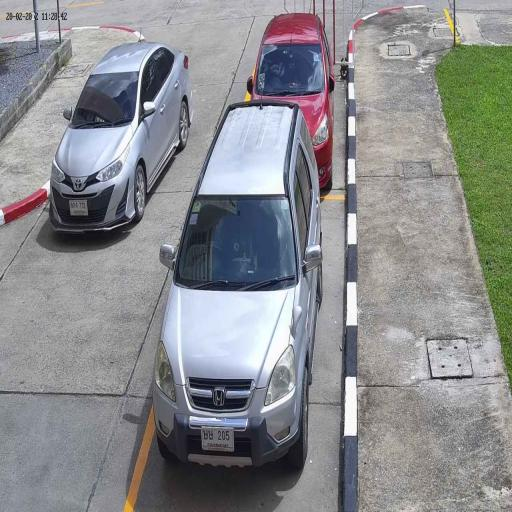car: (154, 96, 324, 478), (49, 38, 193, 238), (249, 12, 335, 189)
